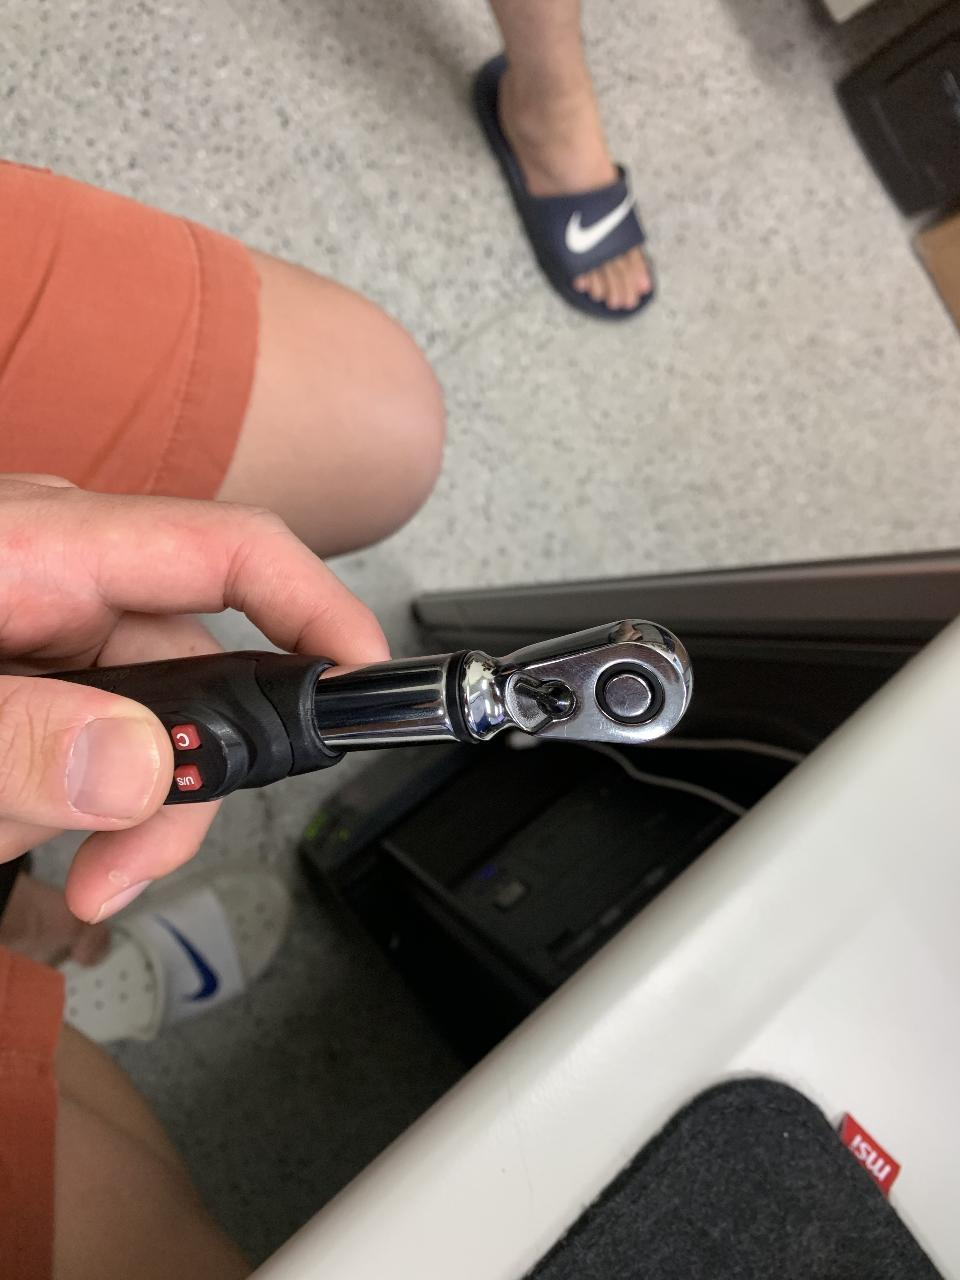Tool: (456, 617, 692, 750)
